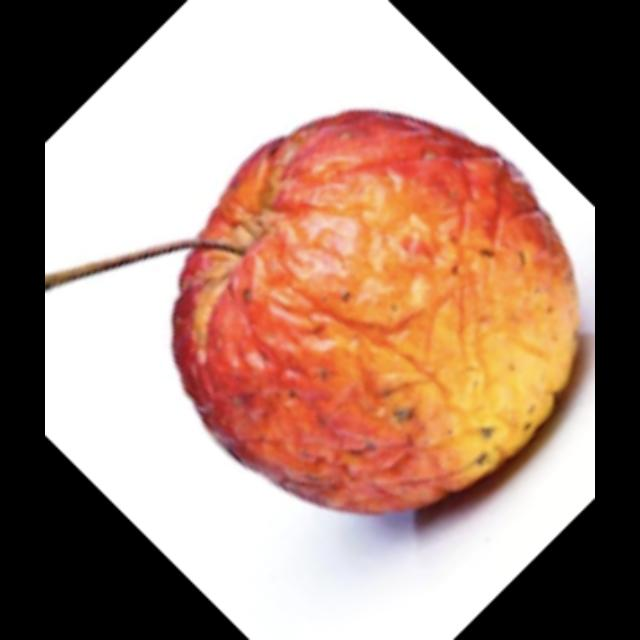Apel Tidak Segar: (82, 69, 590, 575)
